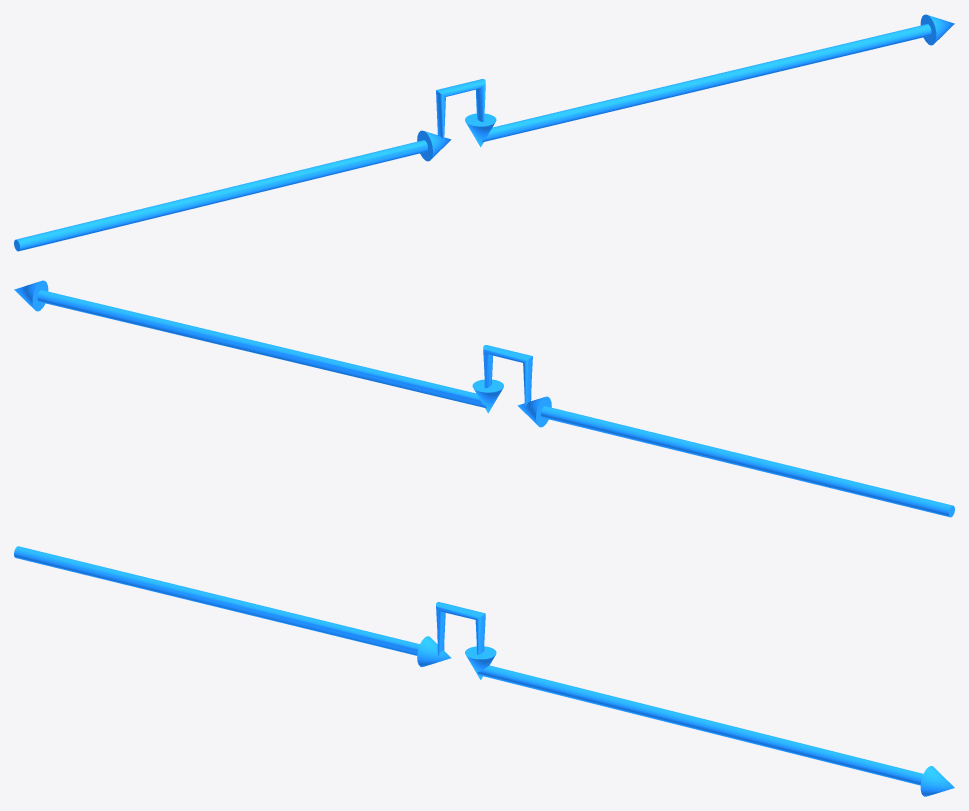
File: solenoid_valve_flow.glb
3 renders of one model, top to bottom at view 1: azimuth 30°, elevation 25°; view 2: azimuth 150°, elevation 25°; view 3: azimuth 330°, elevation 25°, orthographic.
Visible parts, largest first — view 1: flow; view 2: flow; view 3: flow.
Part boxes in pixels (left/top/right/bottom): flow: left=14, top=14, right=954, bottom=251; flow: left=14, top=280, right=954, bottom=517; flow: left=14, top=546, right=954, bottom=796.
Bounding box in the file's own units: 0.708 × 0.0529 × 0.0208.
